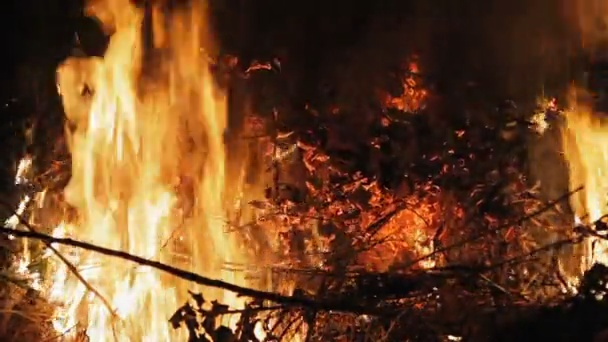fire: (6, 1, 238, 342), (564, 101, 608, 268)
